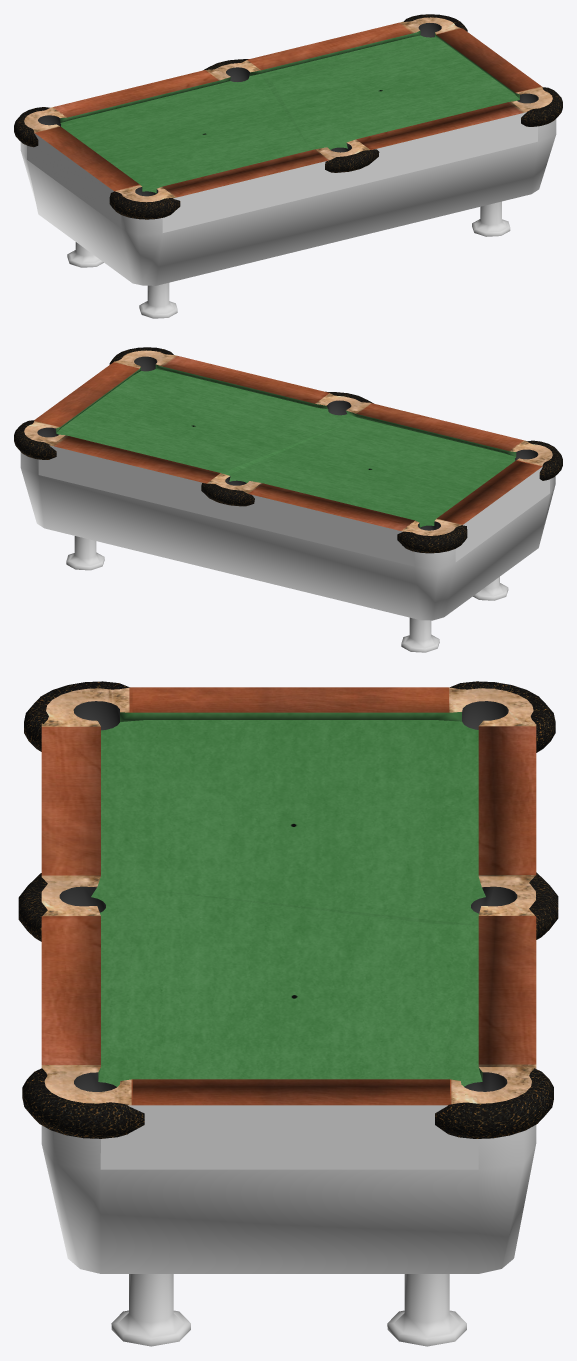
File: billiard.FBX
The picture shows the model from 3 angles, top to bottom: view 1: azimuth 30°, elevation 25°; view 2: azimuth 150°, elevation 25°; view 3: azimuth 270°, elevation 25°; orthographic projection. The views are drawn at different scales.
Visible parts, largest first — view 1: Line009, Cylinder002, Cylinder007, Cylinder006, Cylinder004, Object002, Cylinder001, Cylinder008; view 2: Line009, Cylinder001, Cylinder008, Cylinder005, Cylinder003, Object001, Cylinder002, Cylinder007; view 3: Line009, Cylinder004, Cylinder003, Cylinder005, Cylinder006, Cylinder001, Cylinder002, Object002, Object001.
Part boxes in pixels (x1=…): Line009: x1=20, y1=17, x2=556, y2=285; Cylinder002: x1=109, y1=191, x2=180, y2=219; Cylinder007: x1=139, y1=283, x2=177, y2=318; Cylinder006: x1=472, y1=201, x2=510, y2=236; Cylinder004: x1=521, y1=87, x2=562, y2=126; Object002: x1=325, y1=149, x2=379, y2=172; Cylinder001: x1=14, y1=107, x2=49, y2=147; Cylinder008: x1=67, y1=242, x2=103, y2=267; Line009: x1=20, y1=350, x2=555, y2=620; Cylinder001: x1=397, y1=525, x2=467, y2=553; Cylinder008: x1=401, y1=617, x2=439, y2=652; Cylinder005: x1=66, y1=536, x2=104, y2=570; Cylinder003: x1=14, y1=420, x2=56, y2=459; Object001: x1=201, y1=483, x2=254, y2=506; Cylinder002: x1=527, y1=440, x2=562, y2=480; Cylinder007: x1=473, y1=577, x2=508, y2=600; Line009: x1=41, y1=687, x2=536, y2=1273; Cylinder004: x1=22, y1=1068, x2=144, y2=1138; Cylinder003: x1=435, y1=1068, x2=553, y2=1138; Cylinder005: x1=387, y1=1274, x2=466, y2=1346; Cylinder006: x1=111, y1=1274, x2=190, y2=1346; Cylinder001: x1=450, y1=681, x2=555, y2=752; Cylinder002: x1=24, y1=681, x2=129, y2=751; Object002: x1=18, y1=873, x2=47, y2=941; Object001: x1=529, y1=872, x2=558, y2=939.
Bounding box in the file's own units: 129 × 37.6 × 67.9.
Materials: 3 (3 with a texture image).
